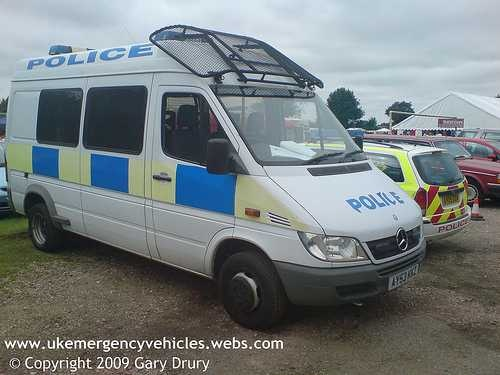Police Van: (11, 36, 427, 337)
